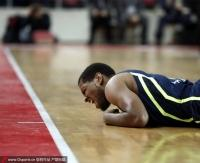fall: (73, 48, 196, 134)
